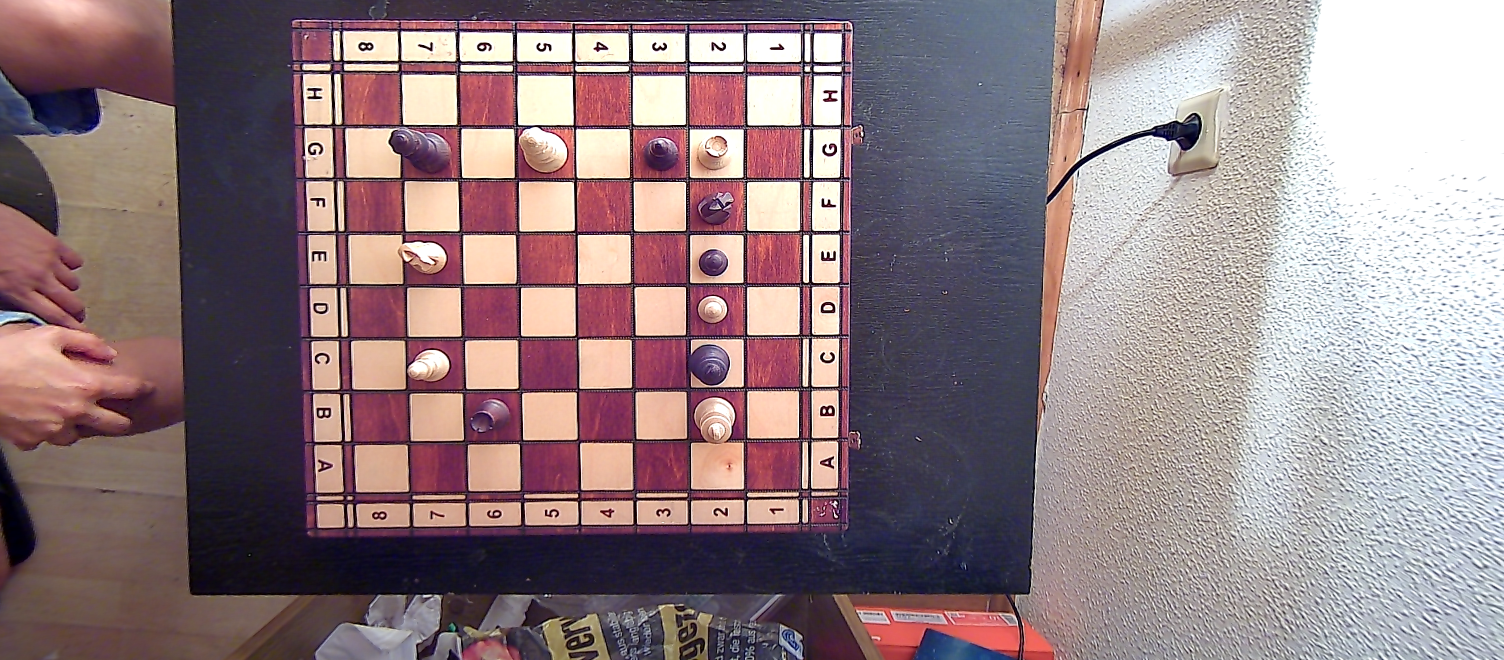black-bishop: (642, 130, 680, 173)
black-king: (689, 346, 732, 388)
black-knight: (695, 188, 738, 228)
black-pawn: (695, 245, 731, 280)
black-queen: (386, 124, 455, 176)
black-rook: (464, 396, 514, 437)
white-bishop: (407, 343, 450, 384)
white-king: (689, 395, 739, 449)
white-knight: (394, 236, 450, 280)
white-pawn: (696, 293, 728, 326)
white-queen: (517, 123, 570, 175)
white-rook: (694, 131, 733, 172)
